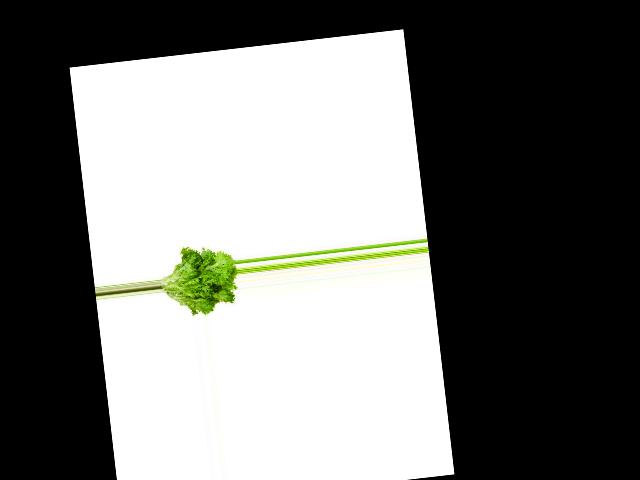lettuce: (155, 241, 241, 322)
